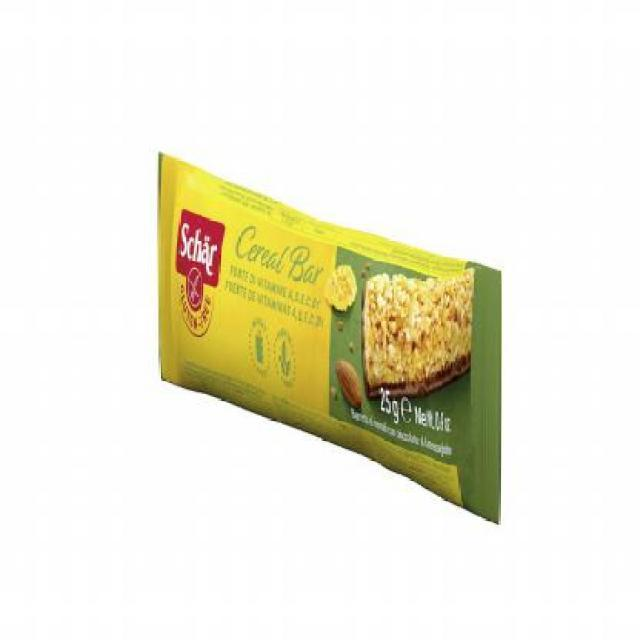Cereal bar: (150, 148, 510, 540)
